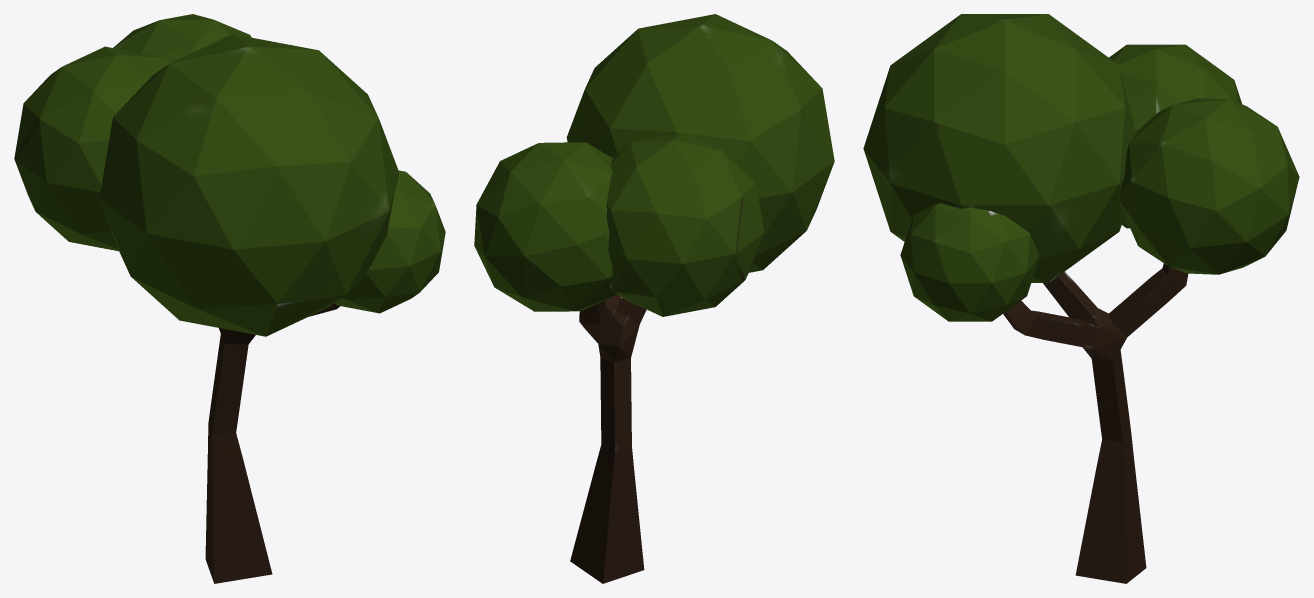
The model's file is tree3-mybloodsweatandtears.obj.
3 renders of one model, left to right at view 1: azimuth 30°, elevation 25°; view 2: azimuth 150°, elevation 25°; view 3: azimuth 270°, elevation 25°, orthographic. The views are drawn at different scales.
Parts seen in each view (by area): view 1: Icosphere.003; view 2: Icosphere.003; view 3: Icosphere.003.
Boxes of the visible parts, x1,y1,x2,y2 form: Icosphere.003: [14, 14, 445, 583]; Icosphere.003: [474, 14, 834, 583]; Icosphere.003: [863, 14, 1299, 583].
Size of the model in its own units: 2.95 by 5.37 by 3.98.
Materials: 1 (1 with a texture image).
